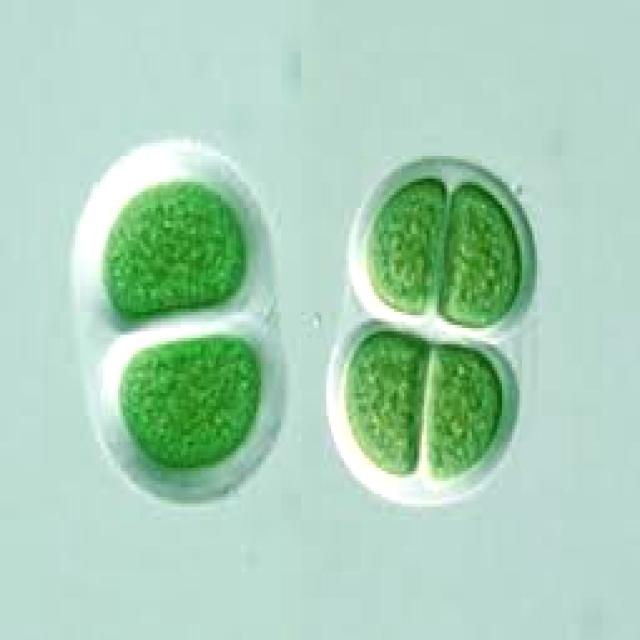Blue Green Algae: (98, 176, 248, 322), (118, 332, 261, 474), (341, 325, 427, 474), (436, 179, 520, 331), (422, 338, 504, 481), (364, 172, 444, 318)
